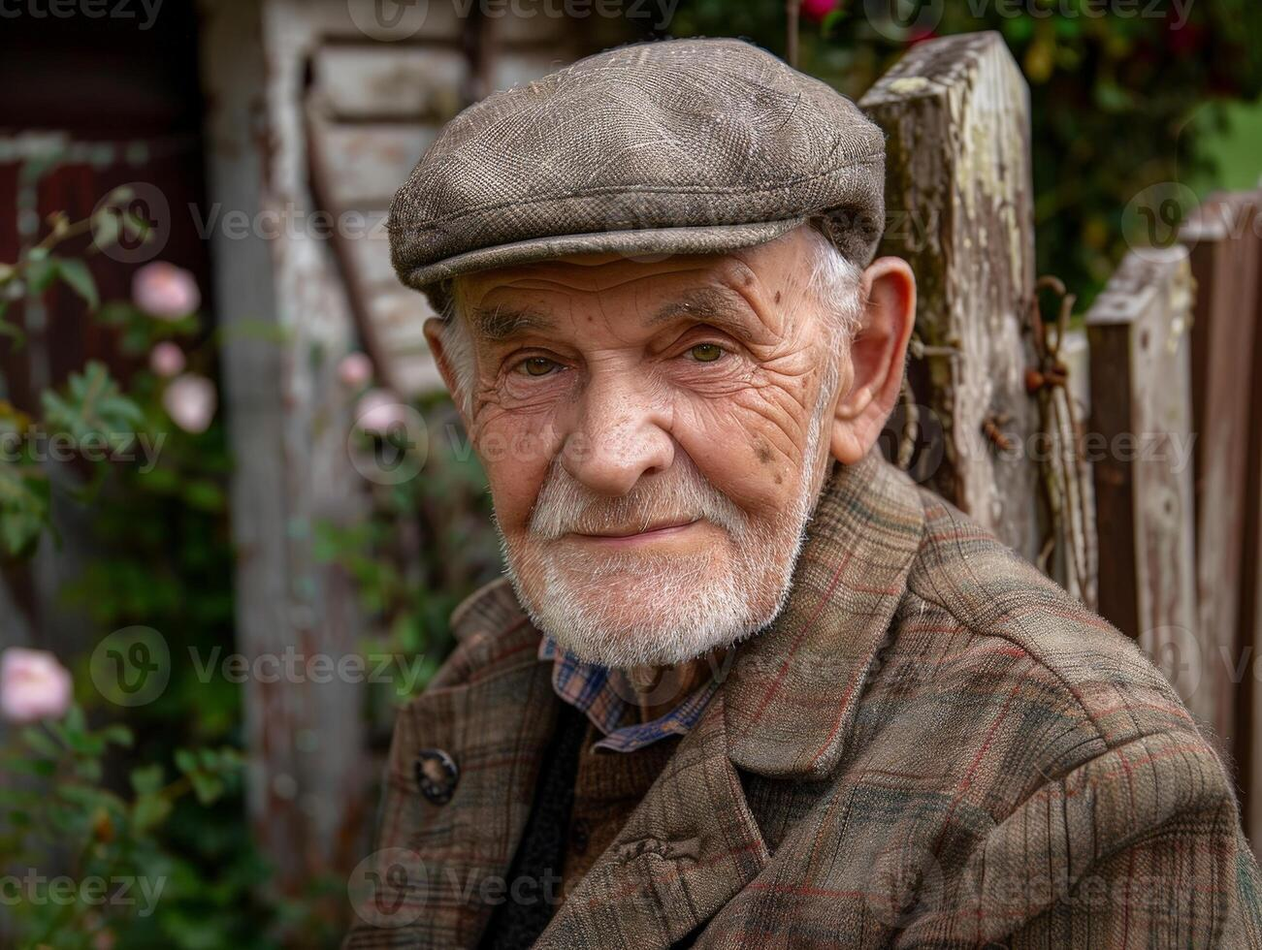cap: (369, 15, 905, 284)
